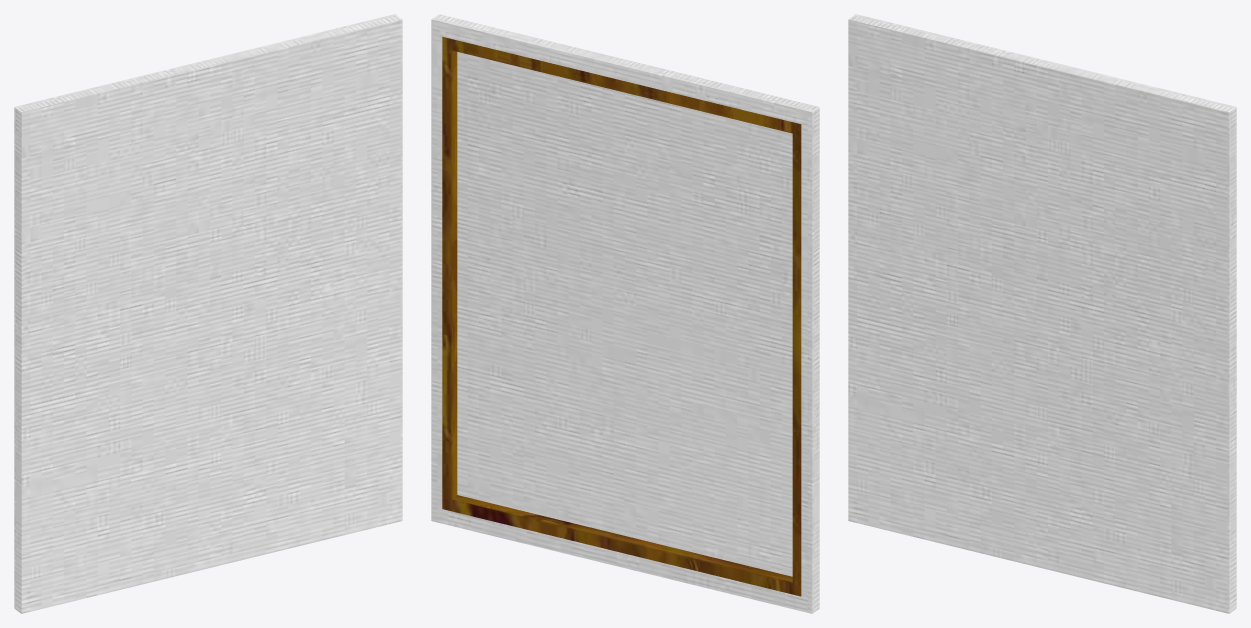
The model's file is painting-turtle.glb.
The picture shows the model from 3 angles, left to right: view 1: azimuth 30°, elevation 25°; view 2: azimuth 150°, elevation 25°; view 3: azimuth 330°, elevation 25°; orthographic projection.
Visible parts, largest first — view 1: painting_canvas; view 2: painting_canvas (×2); view 3: painting_canvas.
Part boxes in pixels (x1,y1,x2,y2): painting_canvas: (14, 14, 402, 613); painting_canvas (×2): (431, 14, 819, 613); painting_canvas: (848, 14, 1236, 613).
Size of the model in its own units: 3.17 by 3.98 by 0.1059.
2 materials, 2 textured.
